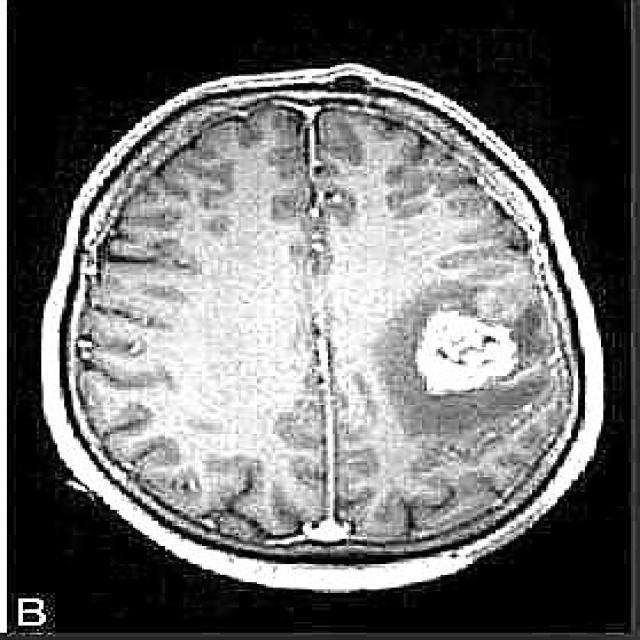Tumor-Cell: (375, 294, 534, 416)
